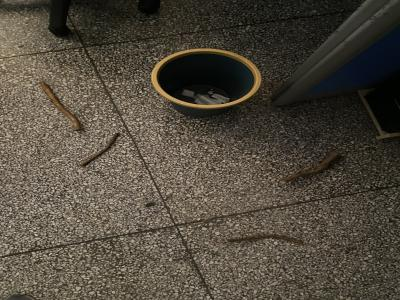Root: (40, 82, 81, 131), (282, 153, 341, 182), (79, 133, 119, 166), (227, 234, 303, 244)
